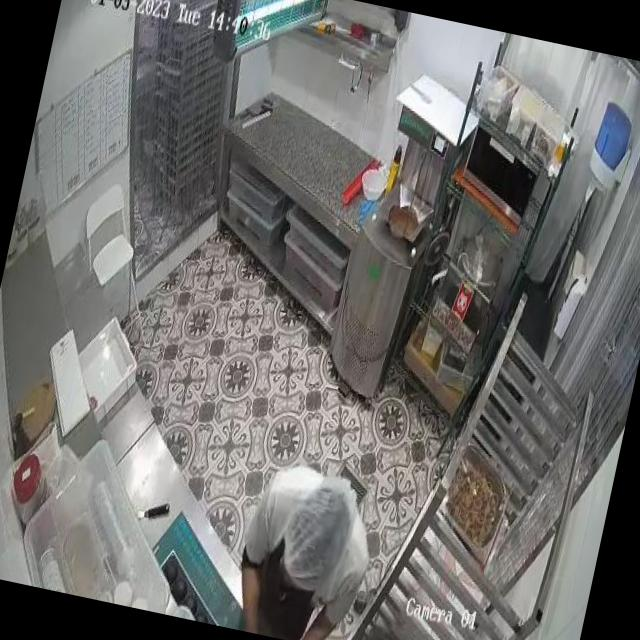hairnet: (284, 472, 362, 574)
